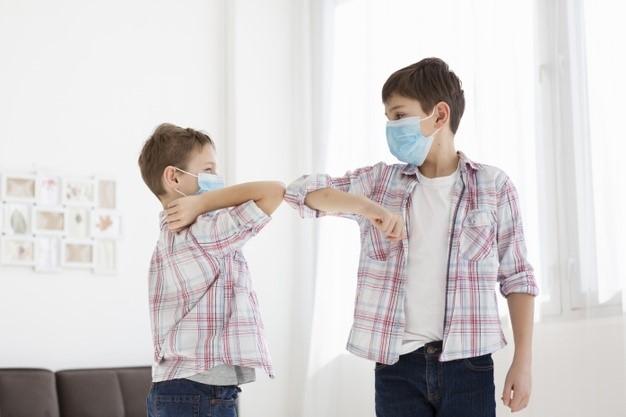face_with_mask: (374, 90, 459, 180), (161, 138, 235, 224)
